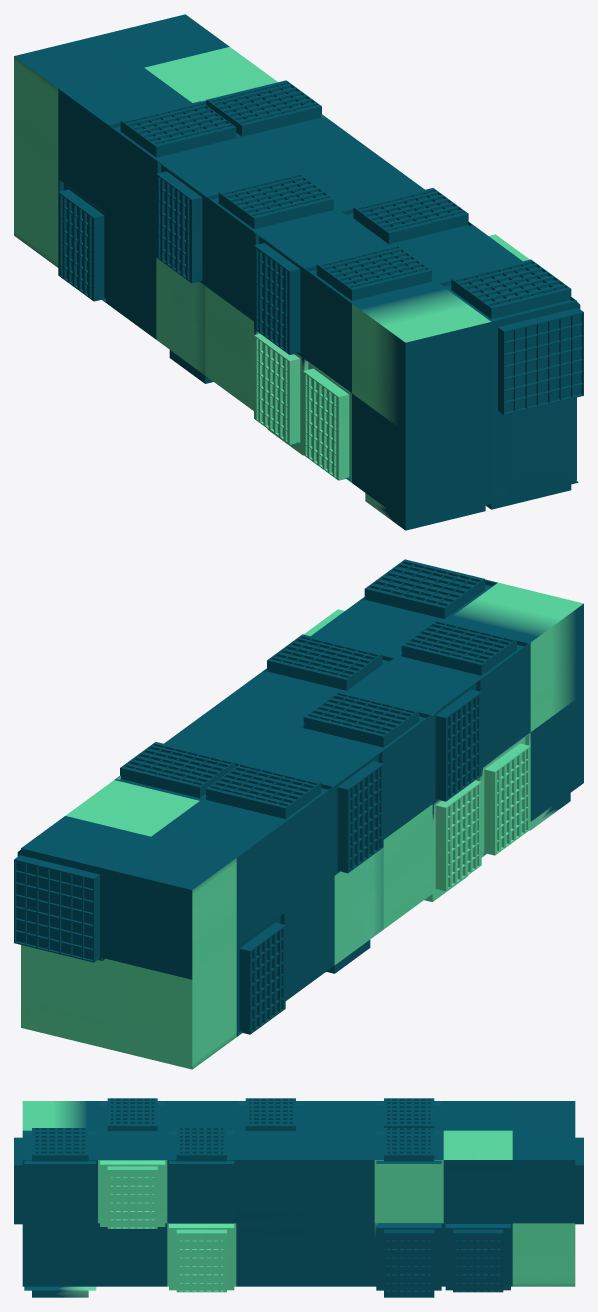
The model's file is predio_futurista1.fbx.
3 views of the same model, one above another, from view 1: azimuth 30°, elevation 25°; view 2: azimuth 150°, elevation 25°; view 3: azimuth 270°, elevation 25° (orthographic). The views are drawn at different scales.
Visible parts, largest first — view 1: Cube; view 2: Cube; view 3: Cube.
Part boxes in pixels (bbox=[...]): Cube: bbox=[14, 14, 583, 530]; Cube: bbox=[14, 559, 583, 1069]; Cube: bbox=[14, 1098, 583, 1297].
Size of the model in its own units: 224 by 224 by 815.
